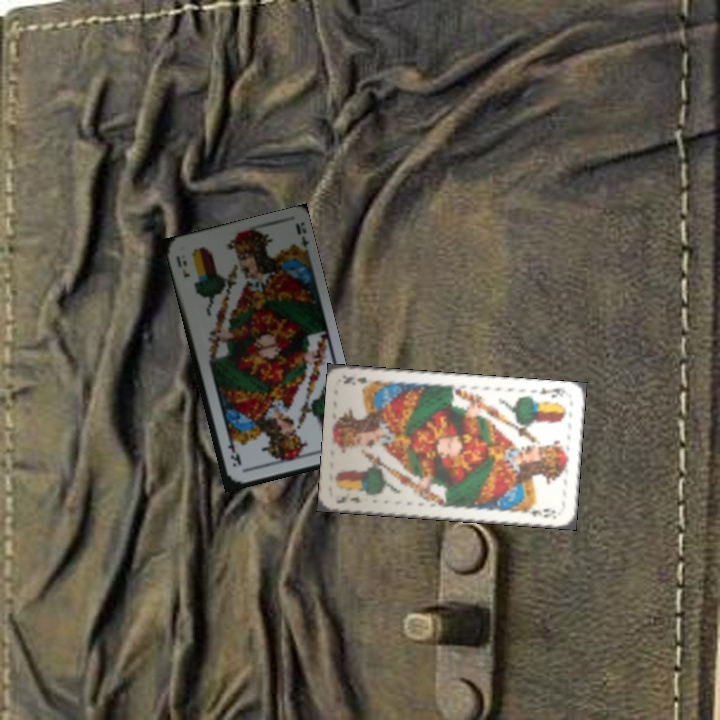EK: (172, 252, 193, 280), (535, 384, 568, 401), (332, 492, 364, 506)
